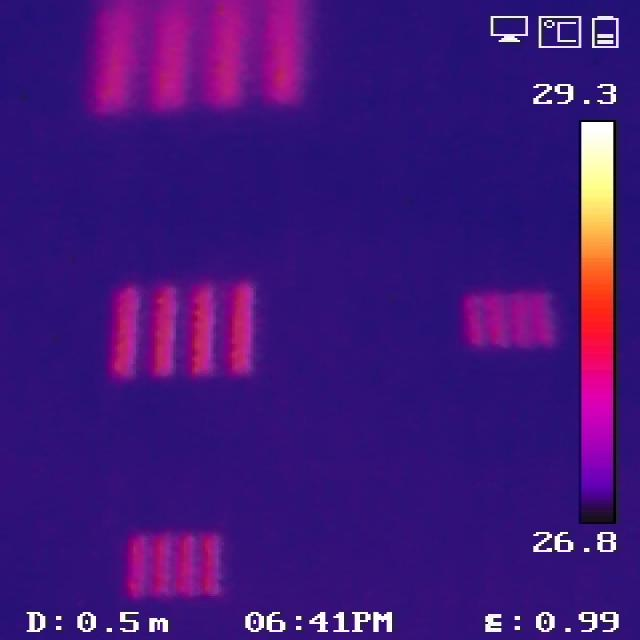Distinguishable 4-bar target: (75, 4, 313, 118), (103, 269, 264, 392), (113, 528, 230, 595)
threshold 4-bar target: (460, 284, 560, 356)
